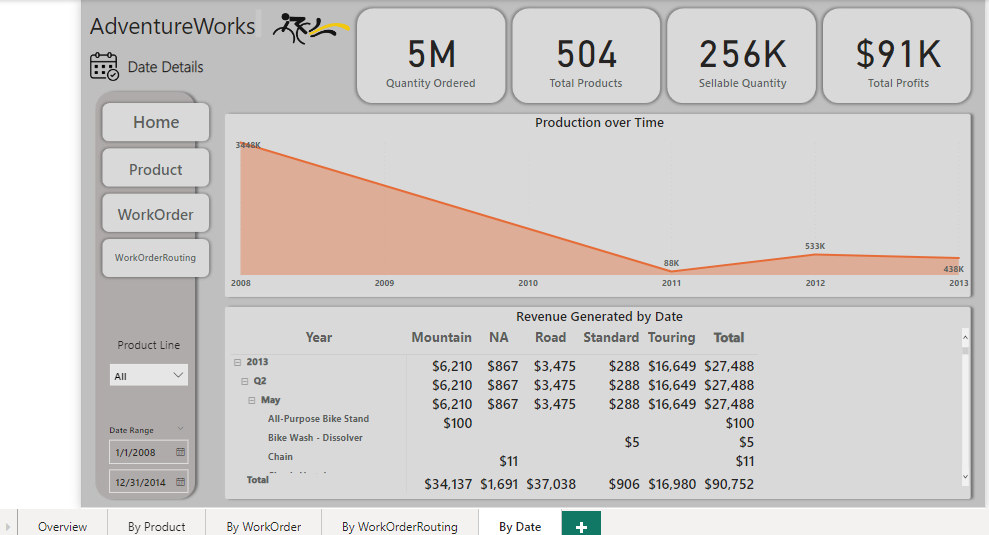

Layout of this report page (visuals, bound fields, positions):
{"tool":"powerbi","page":{"name":"By Date","canvas":[1280,720],"ordinal":4},"visuals":[{"type":"areaChart","title":"Production over Time","fields":{"Category":["Calendar.Year","Calendar.Month","Calendar.Qtr"],"Y":["Sum(Production_WorkOrder.OrderQty)"]},"box":[206.5,159.8,1053.8,258.9],"z":0},{"type":"pivotTable","title":"Revenue Generated by Date","fields":{"Rows":["Calendar.Year","Calendar.Qtr","Calendar.Month","Production_Product.Name"],"Columns":["Production_Product.ProductLine"],"Values":["Sum(Production_Product.Profit)"]},"box":[206.5,434.3,1053.8,267.3],"z":1000},{"type":"textbox","box":[48.1,73.6,142.9,41],"z":2000},{"type":"card","fields":{"Values":["All Mesures.Total Units"]},"box":[609.7,8.5,209.4,141.5],"z":3000},{"type":"card","fields":{"Values":["All Mesures.Total Profits"]},"box":[1052.4,8.5,207.9,141.5],"z":4000},{"type":"card","fields":{"Values":["Sum(Production_WorkOrder.OrderQty)"]},"box":[390.4,8.5,209.4,141.5],"z":5000},{"type":"card","fields":{"Values":["All Measures.Sold Qty"]},"box":[828.9,8.5,213.6,141.5],"z":6000},{"type":"textbox","box":[7.1,8.5,253.2,50.9],"z":7000},{"type":"image","box":[260.3,8.5,127.3,65.1],"z":8000},{"type":"image","box":[0,66.5,66.5,55.2],"z":9000},{"type":"actionButton","title":"Active P","box":[31.1,140,149.9,62.2],"z":10000},{"type":"actionButton","title":"Active WO","box":[35.4,212.2,140,52.3],"z":11000},{"type":"actionButton","title":"Active WOR","box":[35.4,275.8,140,52.3],"z":12000},{"type":"actionButton","title":"Actice D","box":[35.4,333.8,140,59.4],"z":13000},{"type":"slicer","fields":{"Values":["Calendar.Date"]},"box":[26.9,594.1,131.6,110.3],"z":14000},{"type":"slicer","title":"Filter by Product Line","fields":{"Values":["Production_Product.ProductLine"]},"box":[31.1,505,130.1,53.8],"z":15000},{"type":"textbox","box":[28.3,468.2,130.1,36.8],"z":16000}]}

Visuals, with their boxes on the page's 1280x720 design canvas (x1, y1, x2, y2). These are canvas units, not pixel positions in the 989x535 screenshot, which may show the page scaled, cropped or inside an application window:
"Production over Time" areaChart: BBox(206, 160, 1260, 419)
"Revenue Generated by Date" pivotTable: BBox(206, 434, 1260, 702)
textbox: BBox(48, 74, 191, 115)
card - All Mesures.Total Units: BBox(610, 8, 819, 150)
card - All Mesures.Total Profits: BBox(1052, 8, 1260, 150)
card - Sum(Production_WorkOrder.OrderQty): BBox(390, 8, 600, 150)
card - All Measures.Sold Qty: BBox(829, 8, 1042, 150)
textbox: BBox(7, 8, 260, 59)
image: BBox(260, 8, 388, 74)
image: BBox(0, 66, 66, 122)
"Active P" actionButton: BBox(31, 140, 181, 202)
"Active WO" actionButton: BBox(35, 212, 175, 264)
"Active WOR" actionButton: BBox(35, 276, 175, 328)
"Actice D" actionButton: BBox(35, 334, 175, 393)
slicer - Calendar.Date: BBox(27, 594, 158, 704)
"Filter by Product Line" slicer: BBox(31, 505, 161, 559)
textbox: BBox(28, 468, 158, 505)
